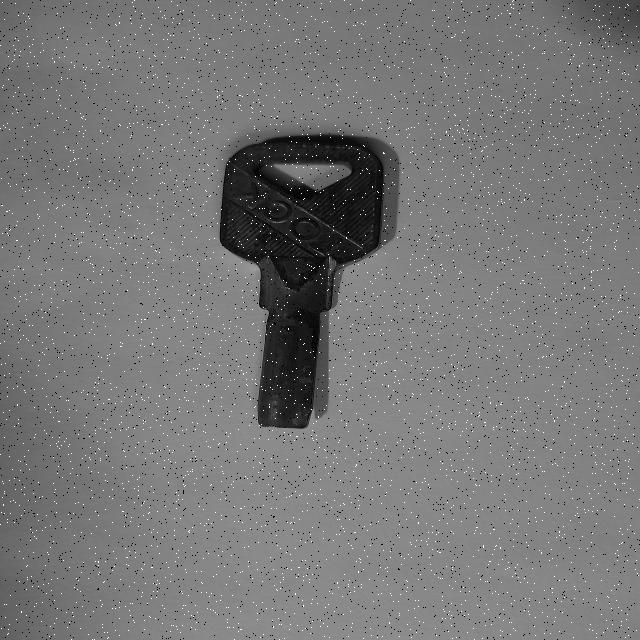key: (220, 141, 383, 429)
